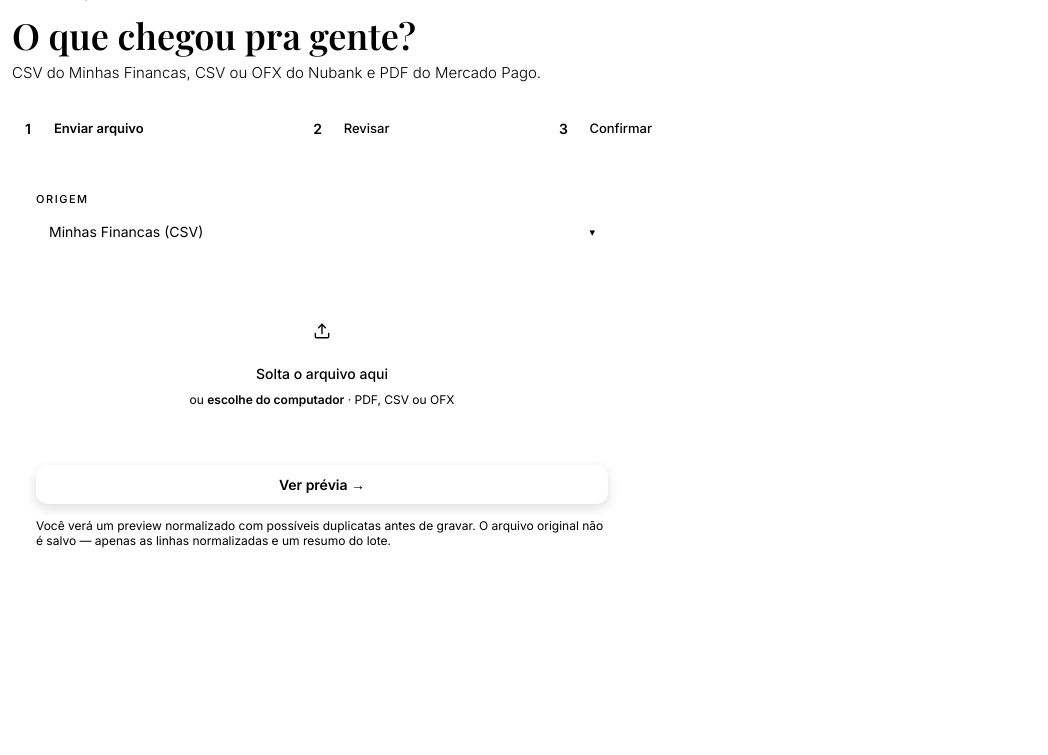
Test: shows each row's own category when the group is mixed
This screenshot has width=1048, height=755.
Submit the form, box [36,192,608,548]
(page scrolled)
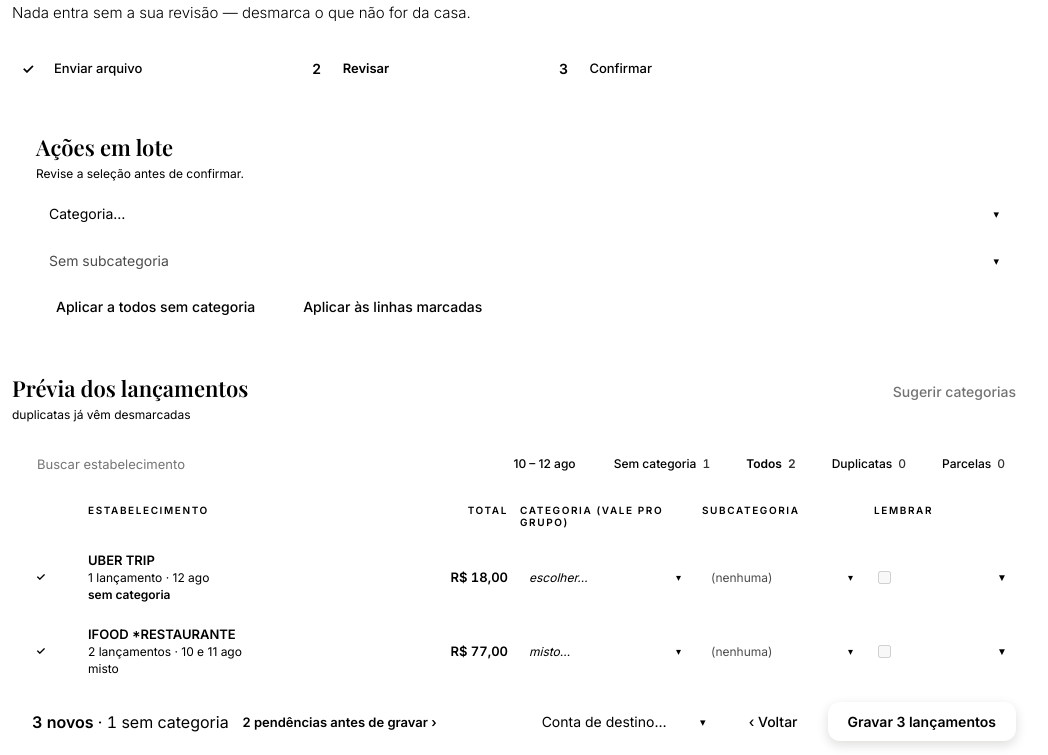
Select "Conta corrente" in the dropdown named "Conta de destino" at coordinates (624, 722), box [529,702,719,741]
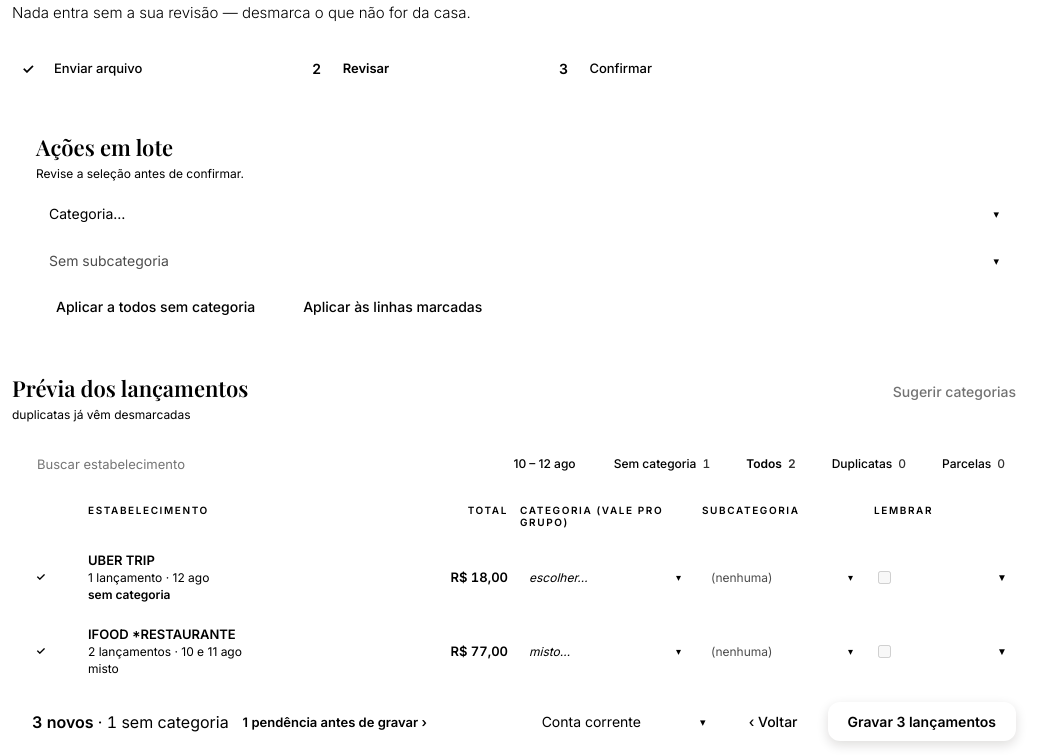
expect the text "misto" is shown: met, box [88,661,119,676]
Click the button "▼" in the row of "R$ 77,00" at coordinates (1002, 651), box [988,637,1016,665]
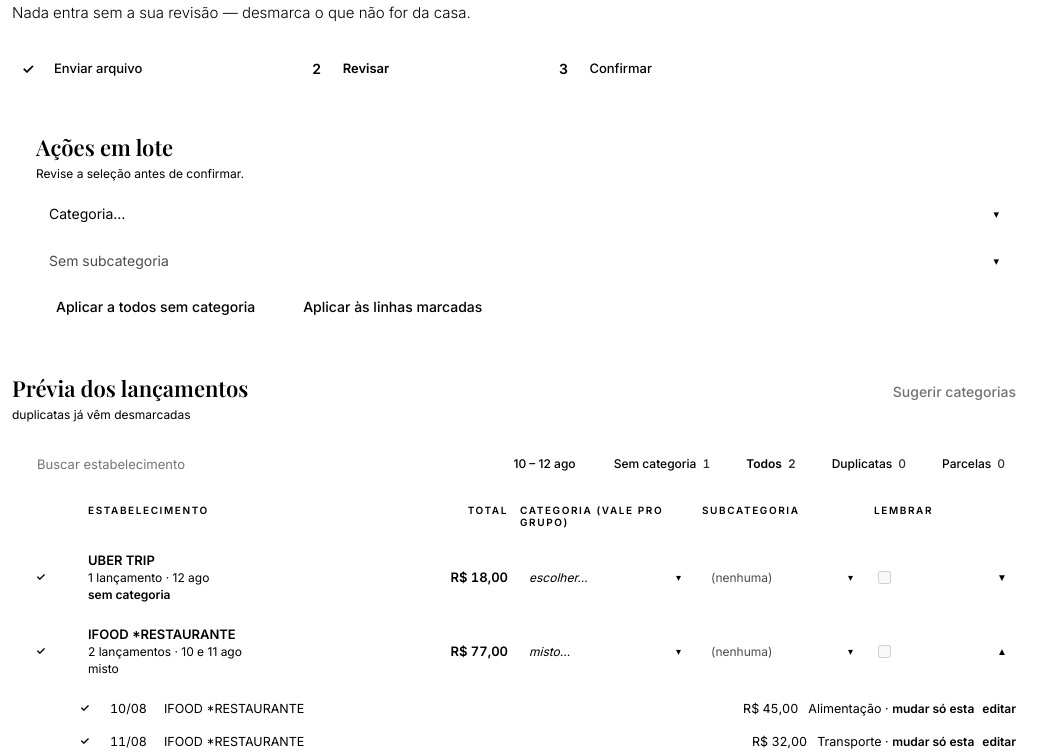
expect the element with class "ff-preview__follows" shows "Alimentação": met, box [808,701,882,716]
expect the element with class "ff-preview__follows" shows "Transporte": met, box [817,734,882,749]
Select "Alimentação" in the dropdown named "Categoria do grupo IFOOD *RESTAURANTE" at coordinates (605, 651), box [520,638,690,664]
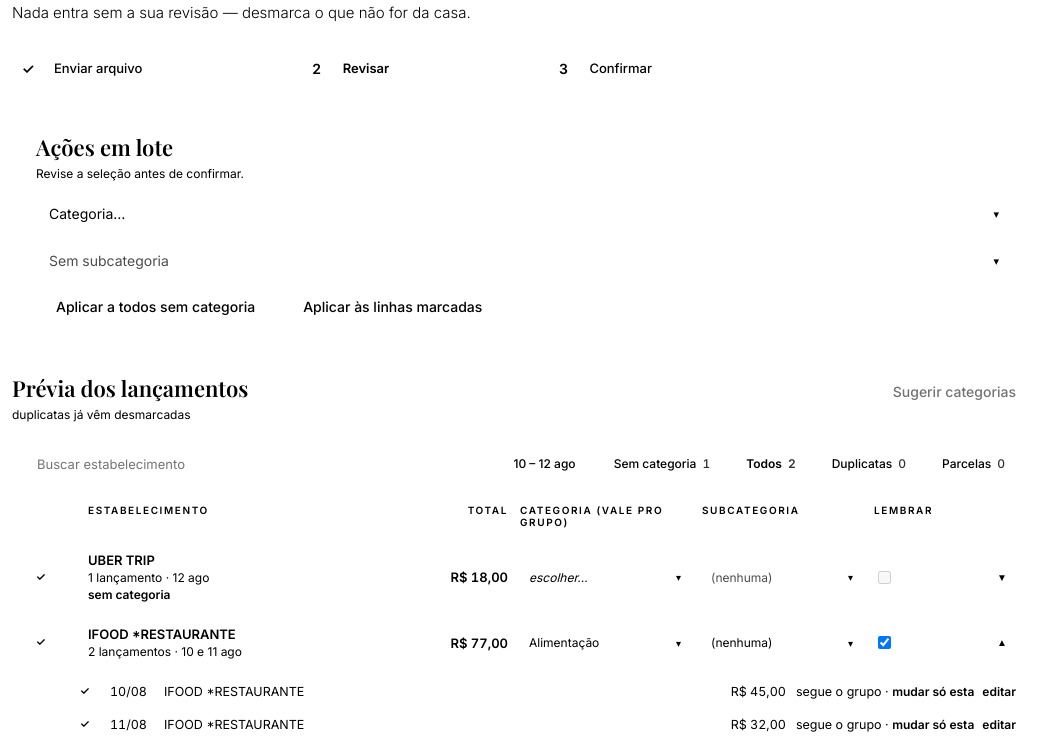
expect the text "misto" is gone: met
